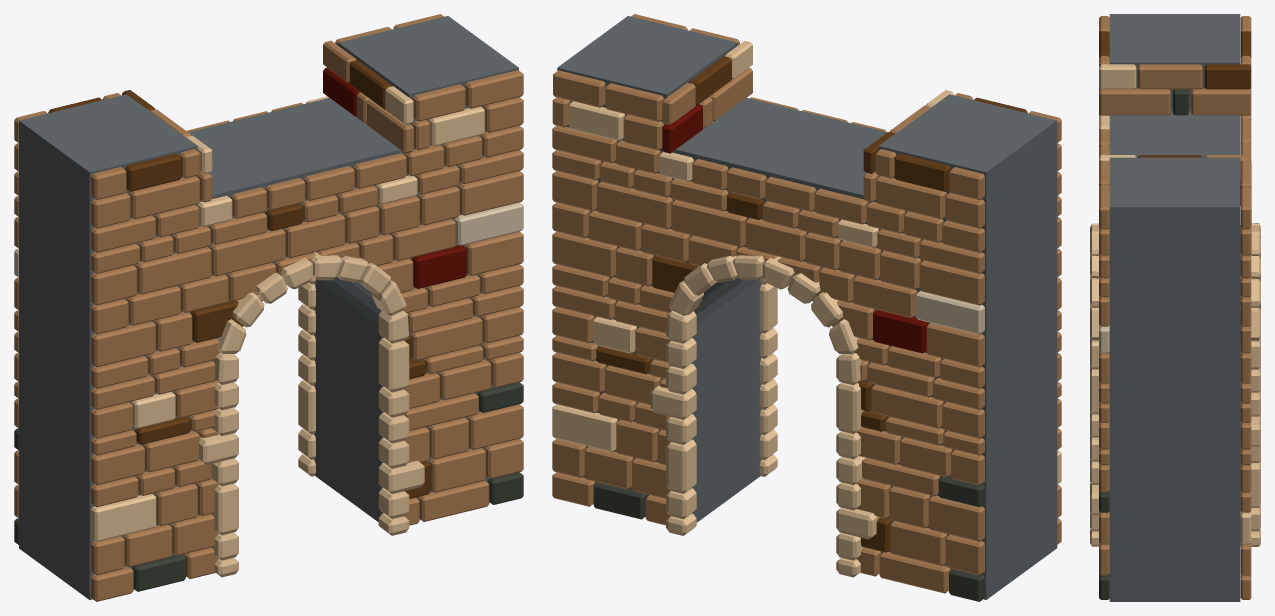
The model's file is wall-section-with-doorway.glb.
3 renders of one model, left to right at view 1: azimuth 30°, elevation 25°; view 2: azimuth 150°, elevation 25°; view 3: azimuth 270°, elevation 25°, orthographic. The views are drawn at different scales.
Parts seen in each view (by area): view 1: wall-back-lower, wall-core, doorframe.001, wall-back-upper-right, wall-back-upper-left, wall-crenellation-left, doorframe.002, wall-front-lower, wall-crenellation-left.001, wall-front-upper-right; view 2: wall-front-lower, wall-core, doorframe.002, wall-front-upper-left, wall-front-upper-right, wall-crenellation-left, doorframe.001, wall-back-lower, wall-crenellation-left.001; view 3: wall-core, wall-crenellation-left.001, wall-front-lower, wall-back-lower, doorframe.002, doorframe.001, wall-front-upper-left, wall-back-upper-right, wall-front-upper-right, wall-crenellation-left, wall-back-upper-left.
Part boxes in pixels (x1,y1,x2,y2): wall-back-lower: (91, 125, 523, 601); wall-core: (19, 16, 518, 599); doorframe.001: (199, 252, 424, 577); wall-back-upper-right: (412, 70, 523, 150); wall-back-upper-left: (91, 149, 200, 228); wall-crenellation-left: (323, 40, 413, 153); doorframe.002: (298, 276, 315, 476); wall-front-lower: (14, 96, 328, 544); wall-crenellation-left.001: (122, 90, 212, 202); wall-front-upper-right: (14, 93, 121, 171); wall-front-lower: (552, 125, 984, 601); wall-core: (557, 16, 1057, 599); doorframe.002: (650, 255, 879, 577); wall-front-upper-left: (552, 70, 663, 150); wall-front-upper-right: (875, 149, 984, 228); wall-crenellation-left: (662, 41, 752, 153); doorframe.001: (759, 276, 777, 476); wall-back-lower: (750, 97, 1061, 544); wall-crenellation-left.001: (863, 90, 953, 202); wall-core: (1109, 14, 1240, 601); wall-crenellation-left.001: (1099, 64, 1251, 115); wall-front-lower: (1240, 114, 1251, 599); wall-back-lower: (1099, 114, 1109, 599); doorframe.002: (1240, 223, 1260, 546); doorframe.001: (1090, 223, 1098, 546); wall-front-upper-left: (1240, 160, 1251, 255); wall-back-upper-right: (1099, 161, 1109, 255); wall-front-upper-right: (1240, 16, 1251, 89); wall-crenellation-left: (1099, 155, 1251, 205); wall-back-upper-left: (1099, 16, 1109, 89).
Bounding box in the file's own units: 2.1 × 2 × 0.7842.
